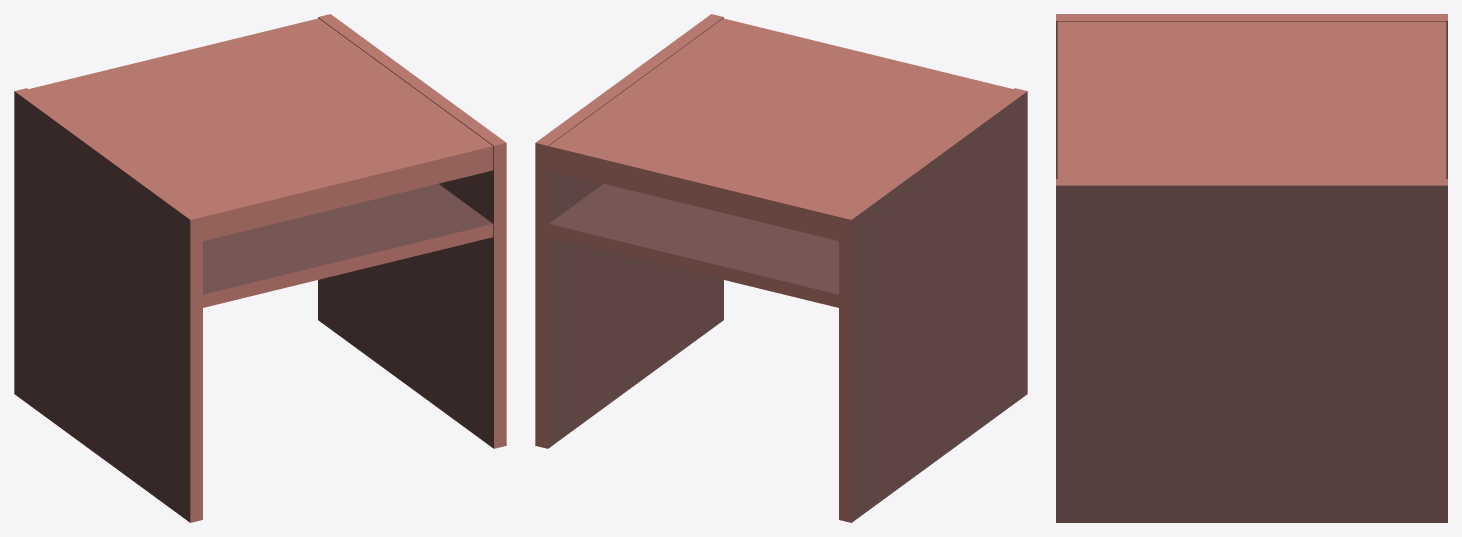
File: Side Table.fbx
3 renders of one model, left to right at view 1: azimuth 30°, elevation 25°; view 2: azimuth 150°, elevation 25°; view 3: azimuth 270°, elevation 25°, orthographic. The views are drawn at different scales.
Visible parts, largest first — view 1: Side Table; view 2: Side Table; view 3: Side Table.
Part boxes in pixels (x1=…): Side Table: x1=14, y1=14, x2=506, y2=522; Side Table: x1=535, y1=14, x2=1027, y2=522; Side Table: x1=1056, y1=14, x2=1447, y2=522.
Bounding box in the file's own units: 117 × 107 × 113.
